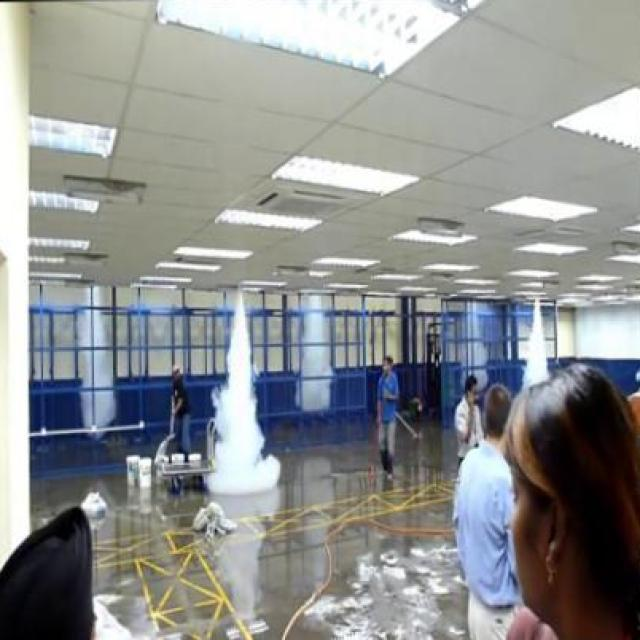fire: (200, 294, 280, 492), (514, 305, 549, 386)
